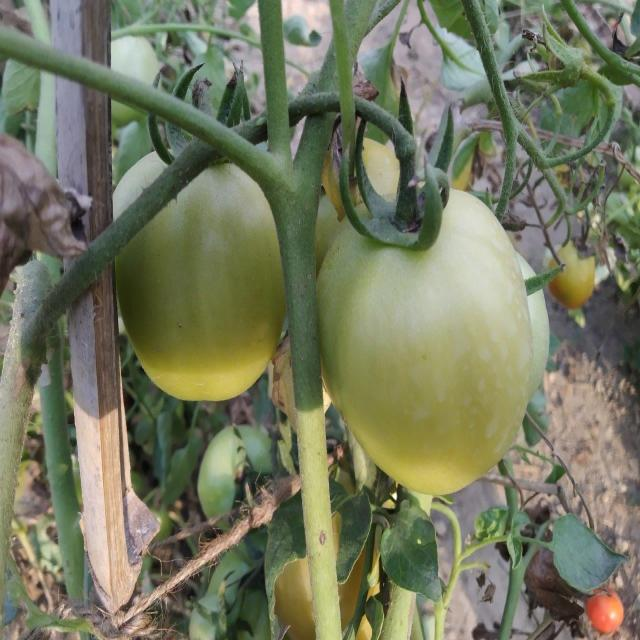Unripe: (314, 179, 529, 496), (110, 126, 290, 400)
